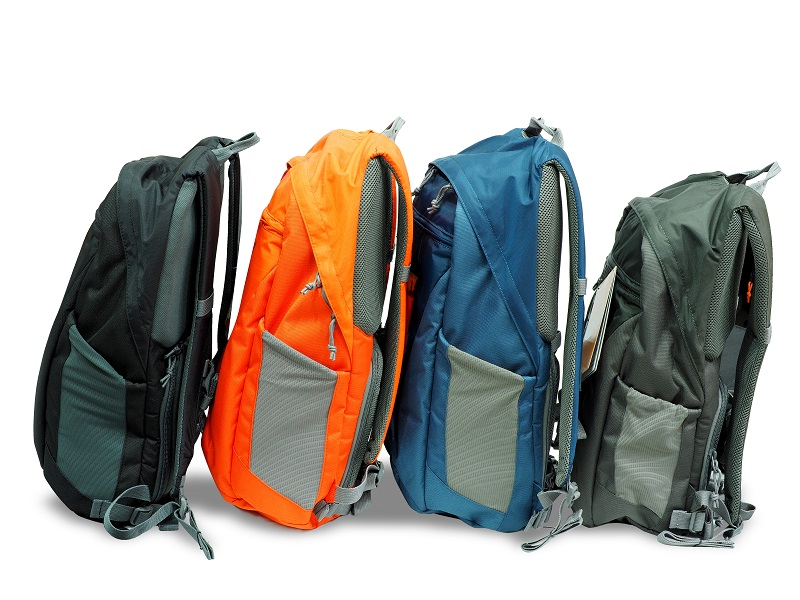backpack: (12, 127, 256, 570), (195, 115, 415, 535), (573, 158, 786, 553), (397, 113, 586, 543)
